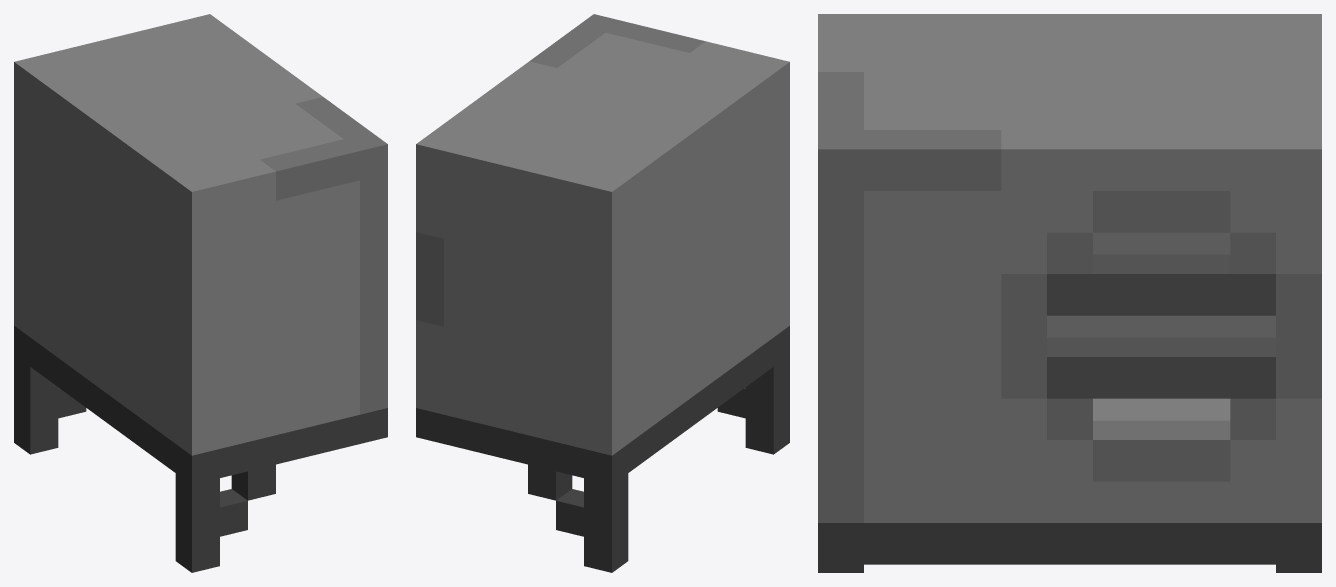
File: condenserUnitTypeC.glb
3 views of the same model, side by side, from view 1: azimuth 30°, elevation 25°; view 2: azimuth 150°, elevation 25°; view 3: azimuth 270°, elevation 25° (orthographic). The views are drawn at different scales.
Visible parts, largest first — view 1: ObjObject; view 2: ObjObject; view 3: ObjObject.
Part boxes in pixels (box(x1,y1,x2,y2)): ObjObject: box(14, 14, 387, 572); ObjObject: box(416, 14, 789, 572); ObjObject: box(818, 14, 1321, 572).
Bounding box in the file's own units: 0.7 × 1.3 × 1.1.
Materials: 1 (1 with a texture image).
